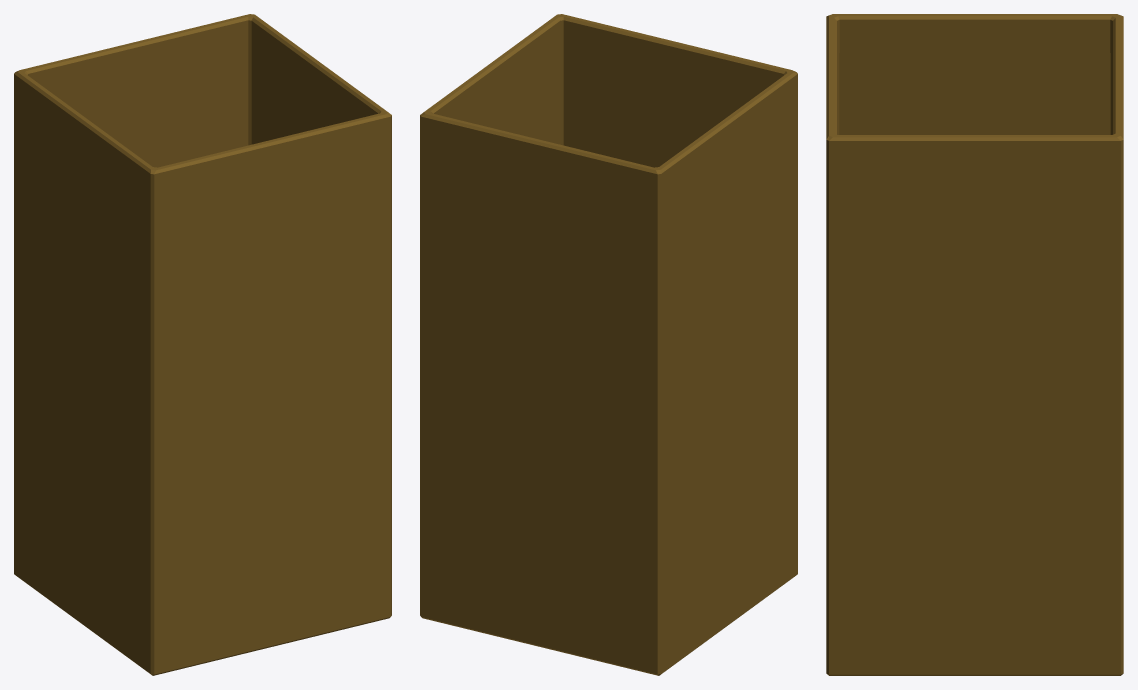
File: hole.glb
The picture shows the model from 3 angles, left to right: view 1: azimuth 30°, elevation 25°; view 2: azimuth 150°, elevation 25°; view 3: azimuth 270°, elevation 25°; orthographic projection. The views are drawn at different scales.
Visible parts, largest first — view 1: hole; view 2: hole; view 3: hole.
Part boxes in pixels (x1=…): hole: x1=14, y1=14, x2=391, y2=675; hole: x1=420, y1=14, x2=797, y2=675; hole: x1=826, y1=14, x2=1123, y2=675.
Bounding box in the file's own units: 1 × 2 × 1.
